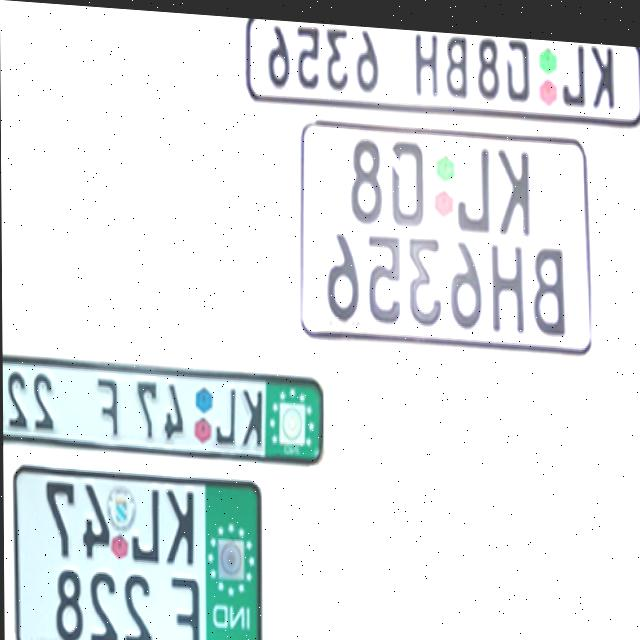plate: (298, 110, 596, 352), (13, 459, 265, 640), (241, 14, 640, 125), (2, 350, 328, 461)
